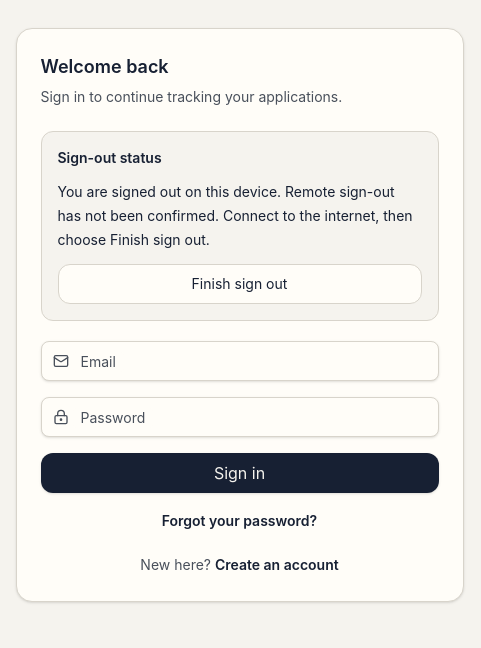
it: Finish sign out keeps the notice after server failure and retries only when requested
Step 1. Click the button "Finish sign out" → [240, 284], box [58,264,422,304]
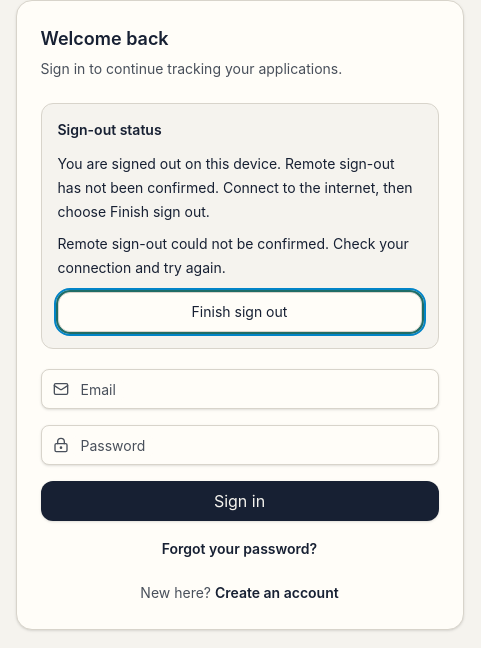
Expected: the element "Sign-out status" is shown, [40,103,438,349]
Expected: the text "Remote sign-out could not be confirmed" is shown, [58,235,409,276]
Step 2. Click the button "Finish sign out" → [240, 312], box [58,292,422,332]
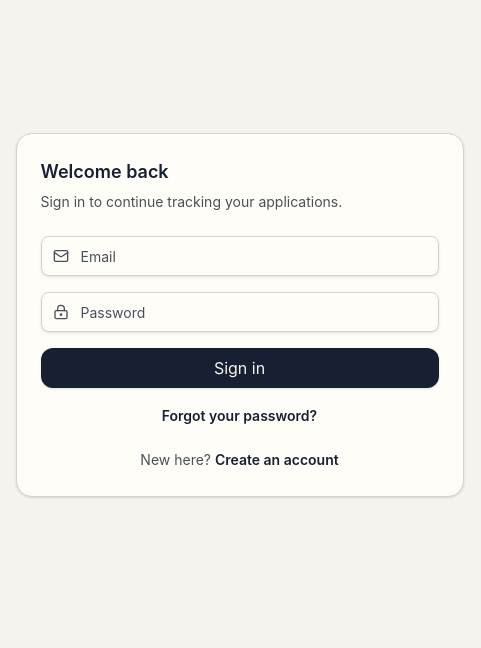
Expected: the heading "Sign-out status" is gone
